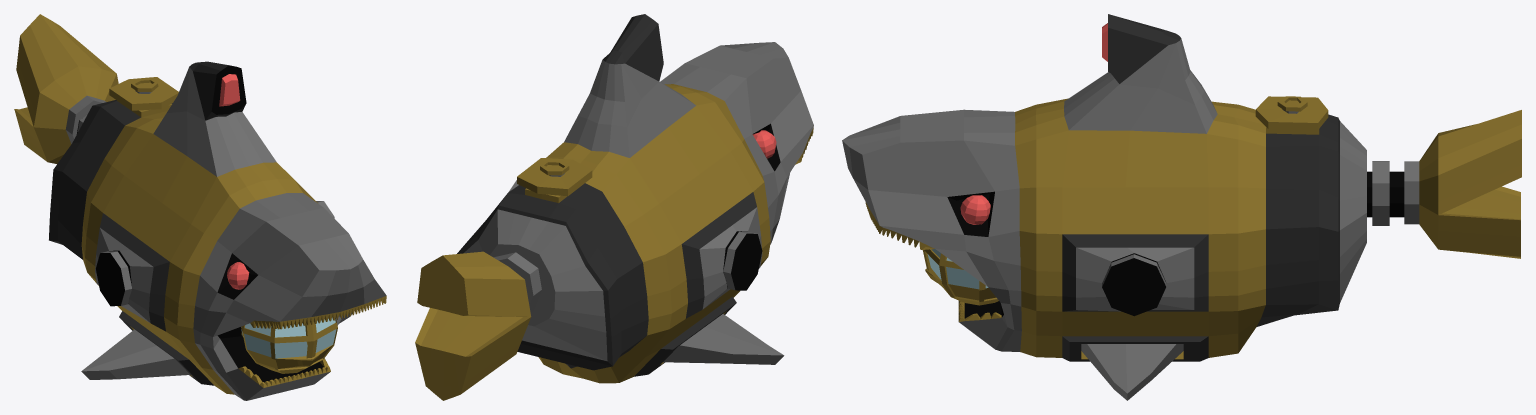
Rendered from Submarine-Shark-v2c-body.fbx.
The picture shows the model from 3 angles, left to right: view 1: azimuth 30°, elevation 25°; view 2: azimuth 150°, elevation 25°; view 3: azimuth 270°, elevation 25°; orthographic projection. The views are drawn at different scales.
Parts seen in each view (by area): view 1: Cube; view 2: Cube; view 3: Cube.
Part boxes in pixels (x1,y1,x2,y2): Cube: (14,14,386,400); Cube: (415,14,813,400); Cube: (842,14,1521,400).
Size of the model in its own units: 201 by 209 by 389.
